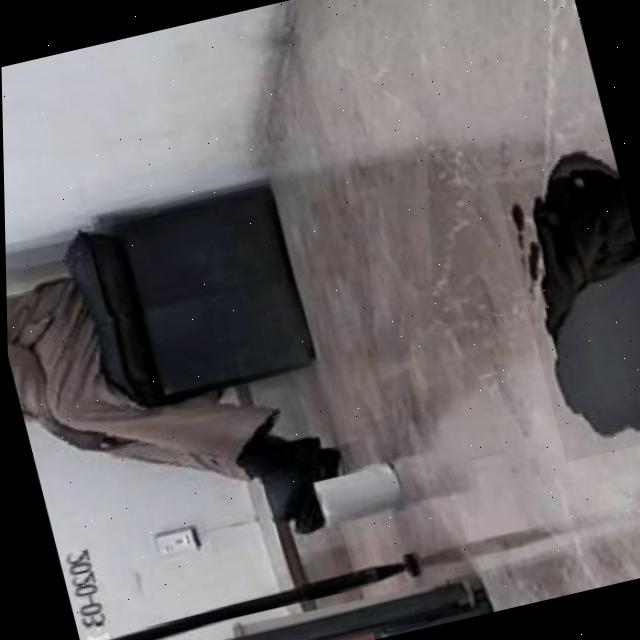spillage: (503, 148, 640, 447)
